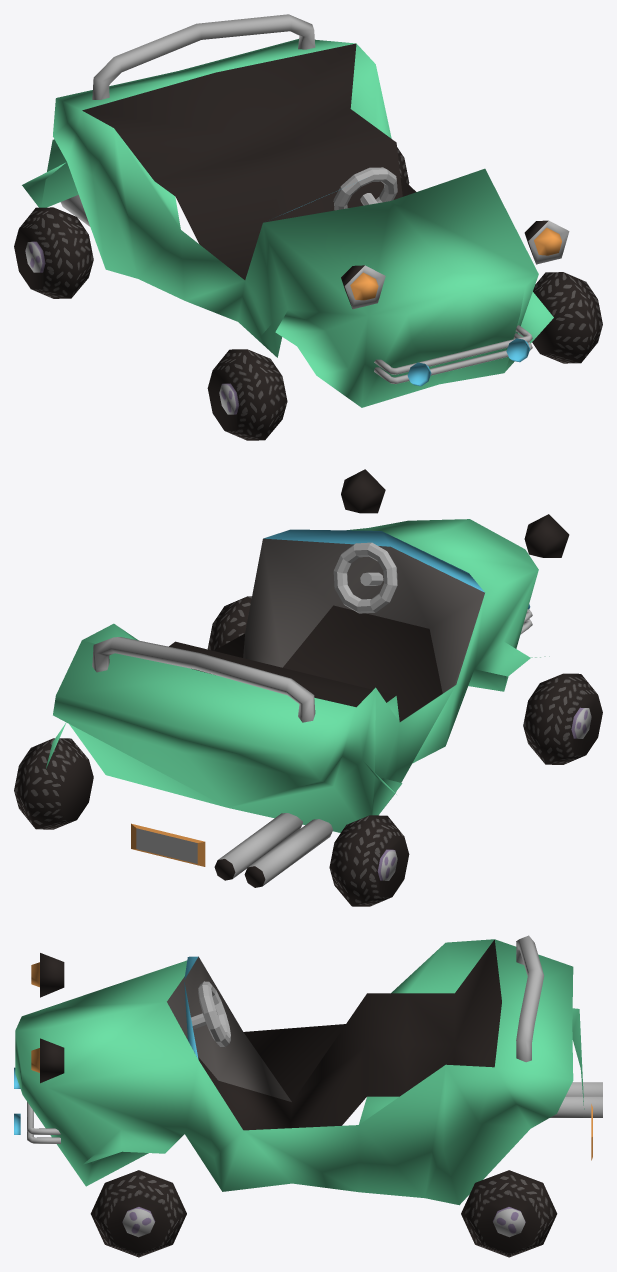
Rendered from car.glb.
3 views of the same model, one above another, from view 1: azimuth 30°, elevation 25°; view 2: azimuth 150°, elevation 25°; view 3: azimuth 270°, elevation 25° (orthographic). The views are drawn at different scales.
Parts seen in each view (by area): view 1: car; view 2: car; view 3: car.
Boxes of the visible parts, bbox=[...] form: car: bbox=[14, 14, 602, 440]; car: bbox=[14, 469, 602, 906]; car: bbox=[14, 935, 602, 1257].
Size of the model in its own units: 5.13 by 3.06 by 7.58.
Materials: 2 (2 with a texture image).
